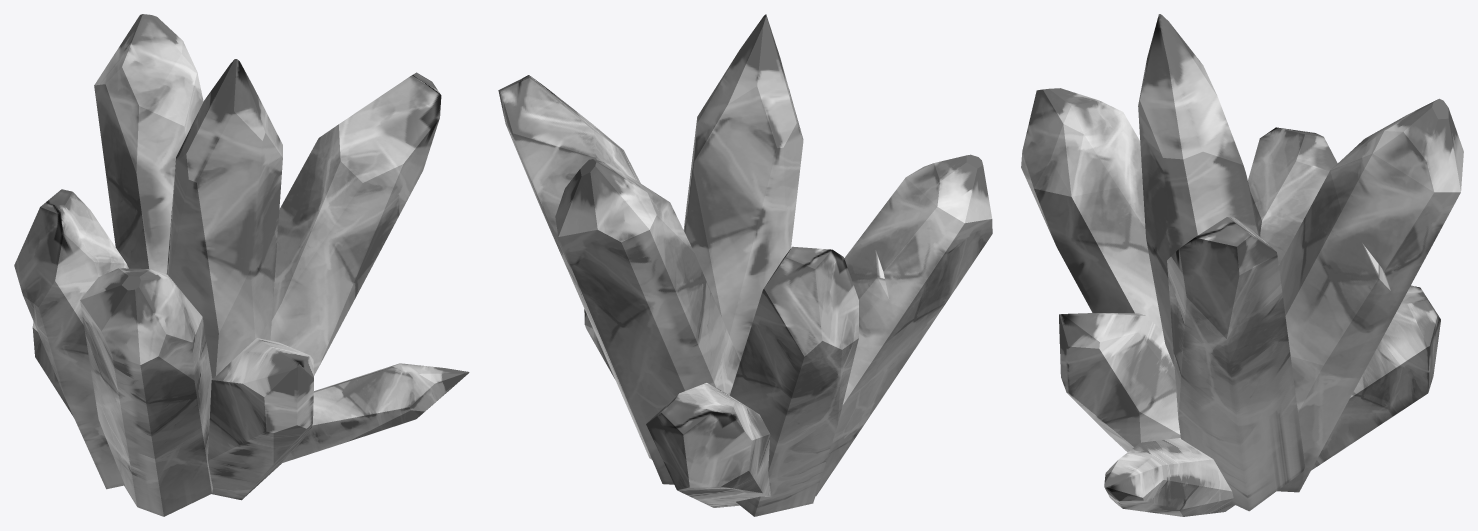
Rendered from Crystal07.fbx.
The picture shows the model from 3 angles, left to right: view 1: azimuth 30°, elevation 25°; view 2: azimuth 150°, elevation 25°; view 3: azimuth 270°, elevation 25°; orthographic projection. The views are drawn at different scales.
Parts seen in each view (by area): view 1: Crystal07; view 2: Crystal07; view 3: Crystal07.
Part boxes in pixels (x1,y1,x2,y2): Crystal07: (14,14,469,516); Crystal07: (498,14,992,516); Crystal07: (1021,14,1463,516).
Bounding box in the file's own units: 391 × 409 × 342.
